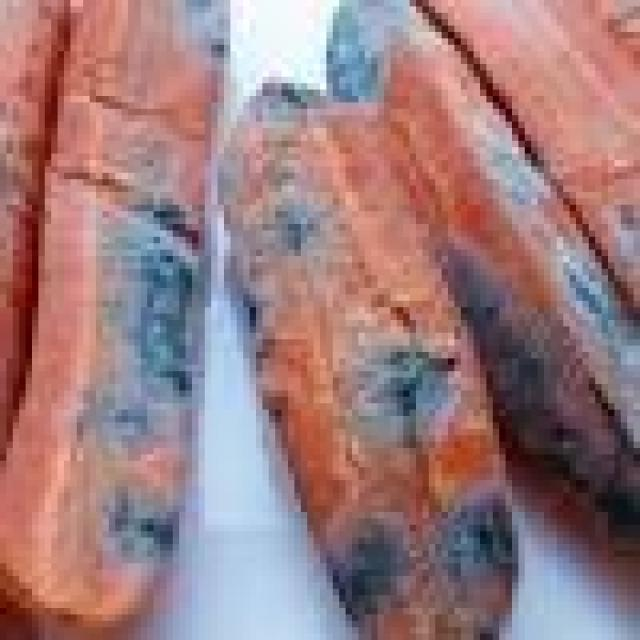Stale_Carrot: (209, 64, 516, 640), (0, 0, 222, 640)
